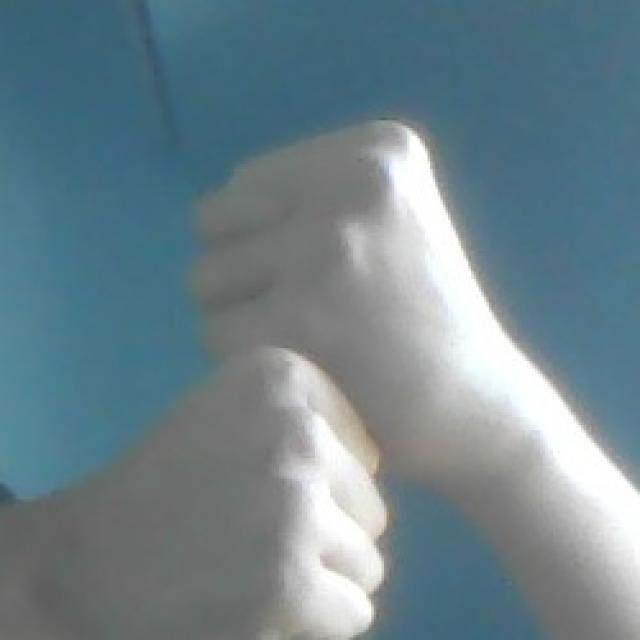Alphabet-g: (157, 104, 499, 640)
